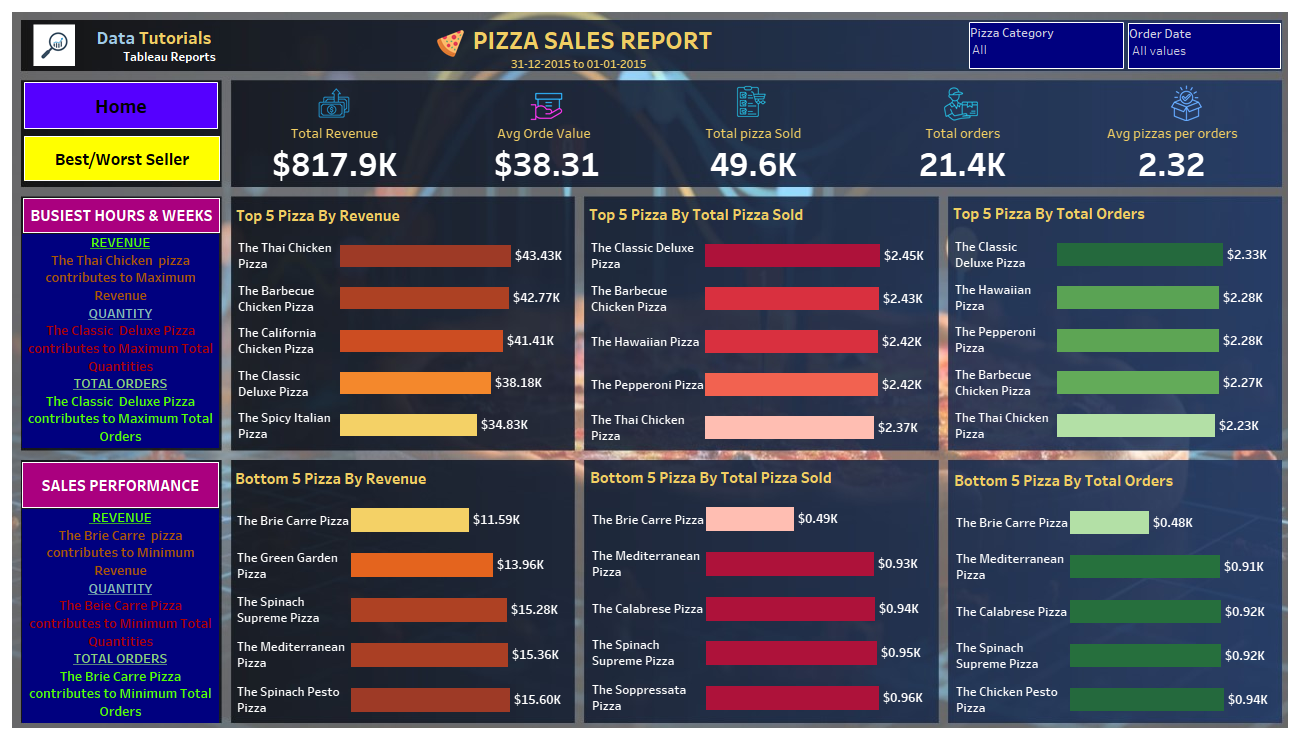

The dashboard page shown, as its layout file describes it:
{"tool":"tableau","page":{"name":"Best/Worst Sellers","canvas":[1300,740],"ordinal":0},"visuals":[{"type":"image","param":"Image/Pizza Tableau 2 (1).jpg","box":[8,8,1284,724]},{"type":"filter","title":"Date Range","param":"[federated.13sva8y1rb70dj1fjozl4091sc1z].[none:pizza_category:nk]","box":[969,22,155,47]},{"type":"text","box":[470,23,245,33]},{"type":"filter","title":"Date Range","param":"[federated.13sva8y1rb70dj1fjozl4091sc1z].[none:order_date:qk]","box":[1128,23,153,46]},{"type":"image","param":"Image/WhatsApp Image 2025-07-14 at 6.10.40 PM (1).jpeg","box":[28,24,52,42]},{"type":"text","box":[81,25,146,41]},{"type":"image","param":"Image/pizza-slice.png","box":[428,28.5,44,28.5]},{"type":"worksheet","title":"Date Range","mark":"Automatic","box":[473,57.1,212,13.7]},{"type":"dashboard-object","box":[24,82,194,47]},{"type":"image","param":"Image/profit-growth.png","box":[312,85,44,35]},{"type":"image","param":"Image/order-delivery (1).png","box":[733,85,37,32]},{"type":"image","param":"Image/order (1).png","box":[1151,85,70,36]},{"type":"image","param":"Image/delivery-man.png","box":[934,86,53,35]},{"type":"image","param":"Image/shipping-box.png","box":[514,88,65,36]},{"type":"worksheet","title":"KPI Banner","mark":"Automatic","box":[230,123,1047,61]},{"type":"dashboard-object","box":[24,136,196,45]},{"type":"worksheet","title":"Top 5 Pizza By Total Orders","mark":"Automatic","rows":["pizza_name"],"cols":["Calculation_677791773465526273"],"box":[949,197,330,250]},{"type":"text","box":[23,198,197,35]},{"type":"worksheet","title":"Top 5 Pizza By Total Pizza Sold","mark":"Automatic","rows":["pizza_name"],"cols":["Calculation_677791773466419203"],"box":[585,198,352,251]},{"type":"worksheet","title":"Top 5 Pizza By Revenue","mark":"Automatic","rows":["pizza_name"],"cols":["Calculation_677791773465194496"],"box":[232,199,343,248]},{"type":"text","box":[22,234,197,214]},{"type":"worksheet","title":"Bottom 5 Pizza By Total Pizza Sold","mark":"Automatic","rows":["pizza_name"],"cols":["Calculation_677791773466419203"],"box":[586,461,350,259]},{"type":"text","box":[22,462,197,46]},{"type":"worksheet","title":"Bottom 5 Pizza By Revenue ","mark":"Automatic","rows":["pizza_name"],"cols":["Calculation_677791773465194496"],"box":[231,462,342,260]},{"type":"worksheet","title":"Bottom 5 Pizza By Total Orders","mark":"Automatic","rows":["pizza_name"],"cols":["Calculation_677791773465526273"],"box":[950,464,330,258]},{"type":"text","box":[22,509,197,214]}]}

Visuals, with their boxes in screenshot pixels (x1, y1, x2, y2), scaled from the page's 1300x740 canvas onto the 1300x740 screenshot:
image: region(8, 8, 1292, 732)
"Date Range" filter: region(969, 22, 1124, 69)
text: region(470, 23, 715, 56)
"Date Range" filter: region(1128, 23, 1281, 69)
image: region(28, 24, 80, 66)
text: region(81, 25, 227, 66)
image: region(428, 28, 472, 57)
"Date Range" worksheet: region(473, 57, 685, 71)
dashboard-object: region(24, 82, 218, 129)
image: region(312, 85, 356, 120)
image: region(733, 85, 770, 117)
image: region(1151, 85, 1221, 121)
image: region(934, 86, 987, 121)
image: region(514, 88, 579, 124)
"KPI Banner" worksheet: region(230, 123, 1277, 184)
dashboard-object: region(24, 136, 220, 181)
"Top 5 Pizza By Total Orders" worksheet: region(949, 197, 1279, 447)
text: region(23, 198, 220, 233)
"Top 5 Pizza By Total Pizza Sold" worksheet: region(585, 198, 937, 449)
"Top 5 Pizza By Revenue" worksheet: region(232, 199, 575, 447)
text: region(22, 234, 219, 448)
"Bottom 5 Pizza By Total Pizza Sold" worksheet: region(586, 461, 936, 720)
text: region(22, 462, 219, 508)
"Bottom 5 Pizza By Revenue " worksheet: region(231, 462, 573, 722)
"Bottom 5 Pizza By Total Orders" worksheet: region(950, 464, 1280, 722)
text: region(22, 509, 219, 723)
